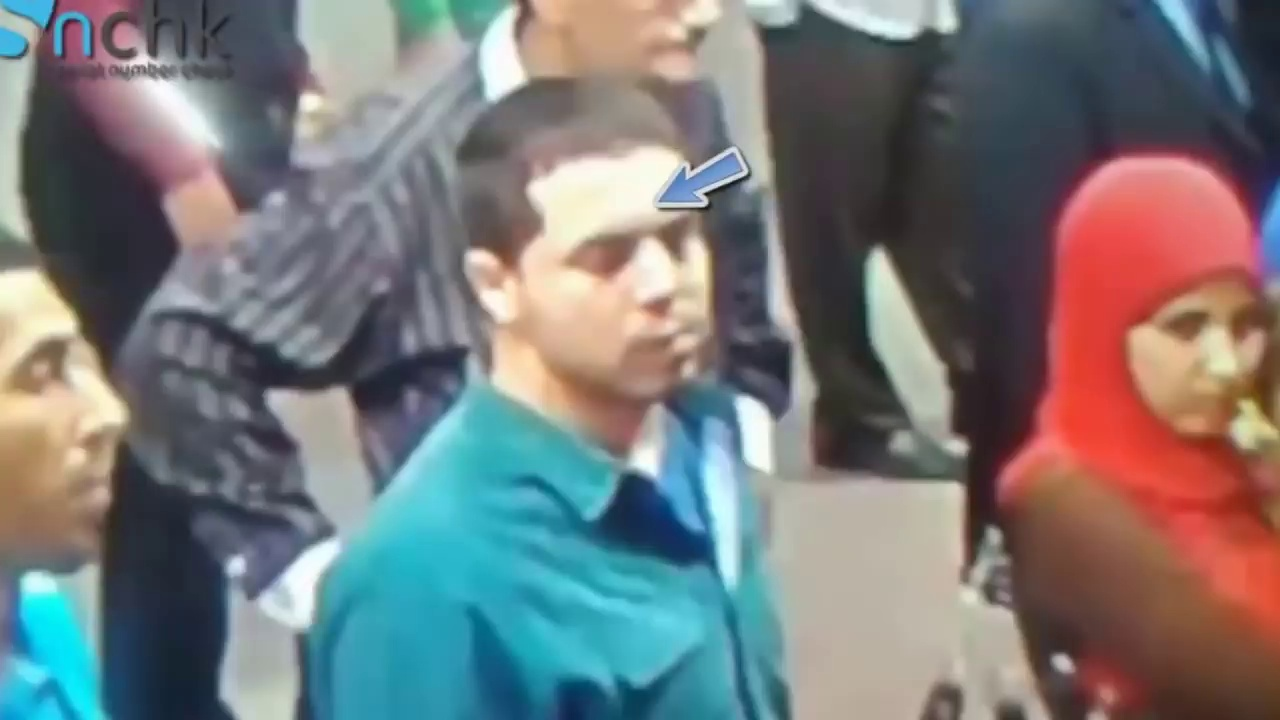face: (517, 176, 712, 396), (4, 289, 128, 555), (1131, 293, 1270, 446)
